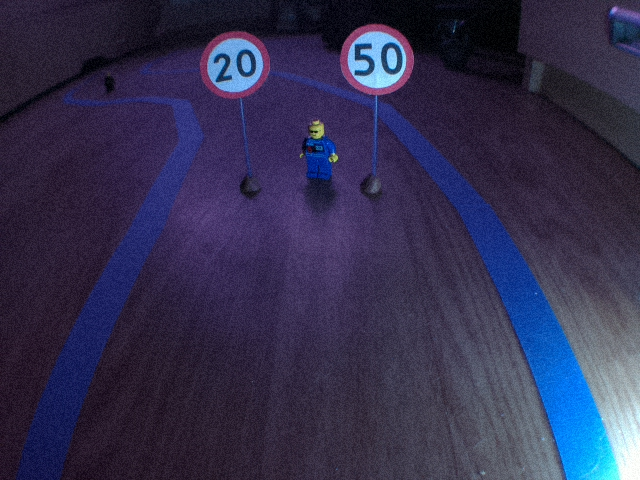LEGO_person: (296, 116, 340, 185)
ogr_20: (197, 28, 273, 102)
ogr_50: (337, 21, 416, 99)
